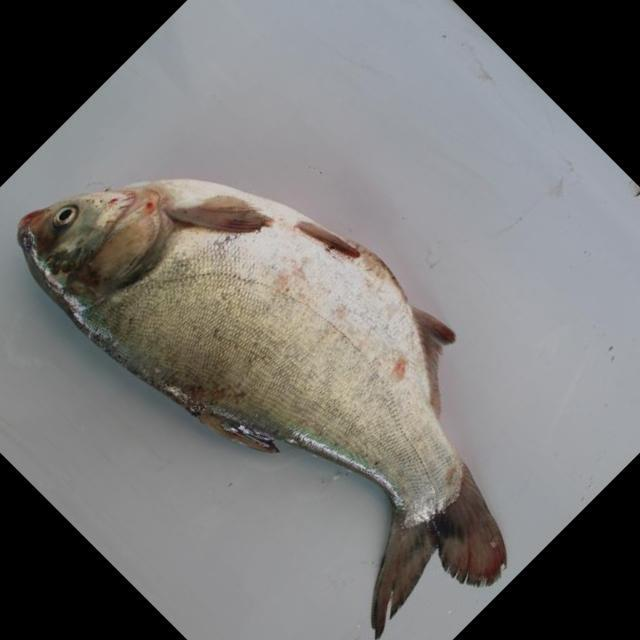SilverCarp: (11, 172, 520, 620)
